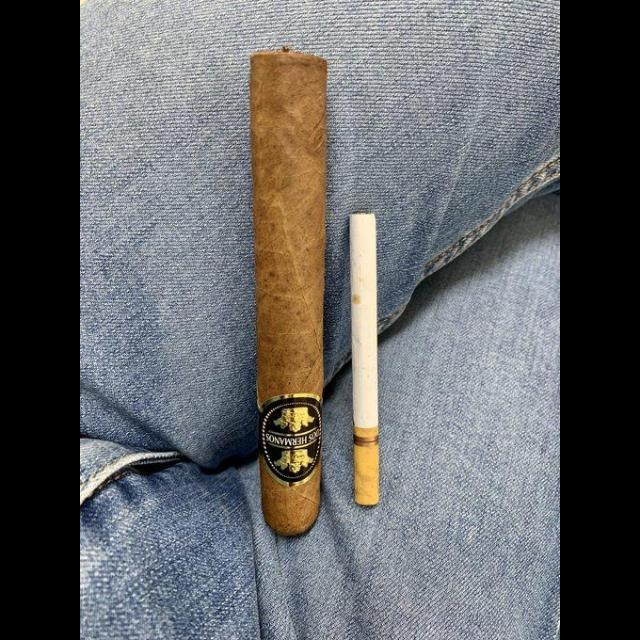rokok: (242, 45, 332, 543), (345, 207, 385, 511)
